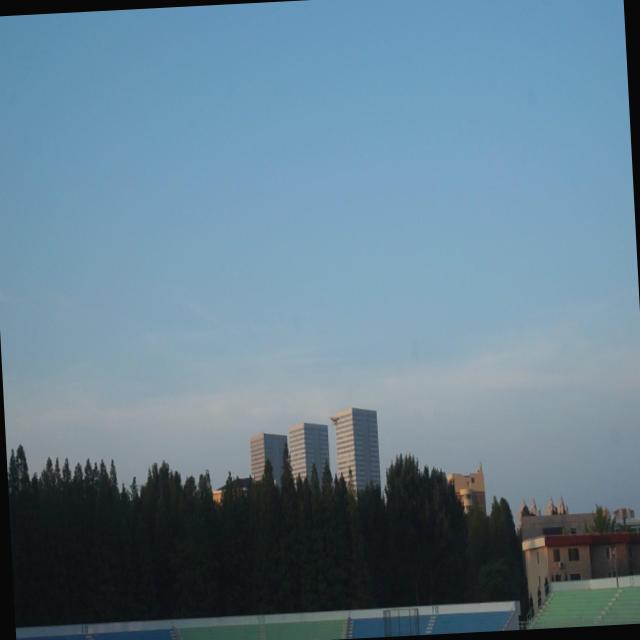drone: (330, 412, 342, 431)
